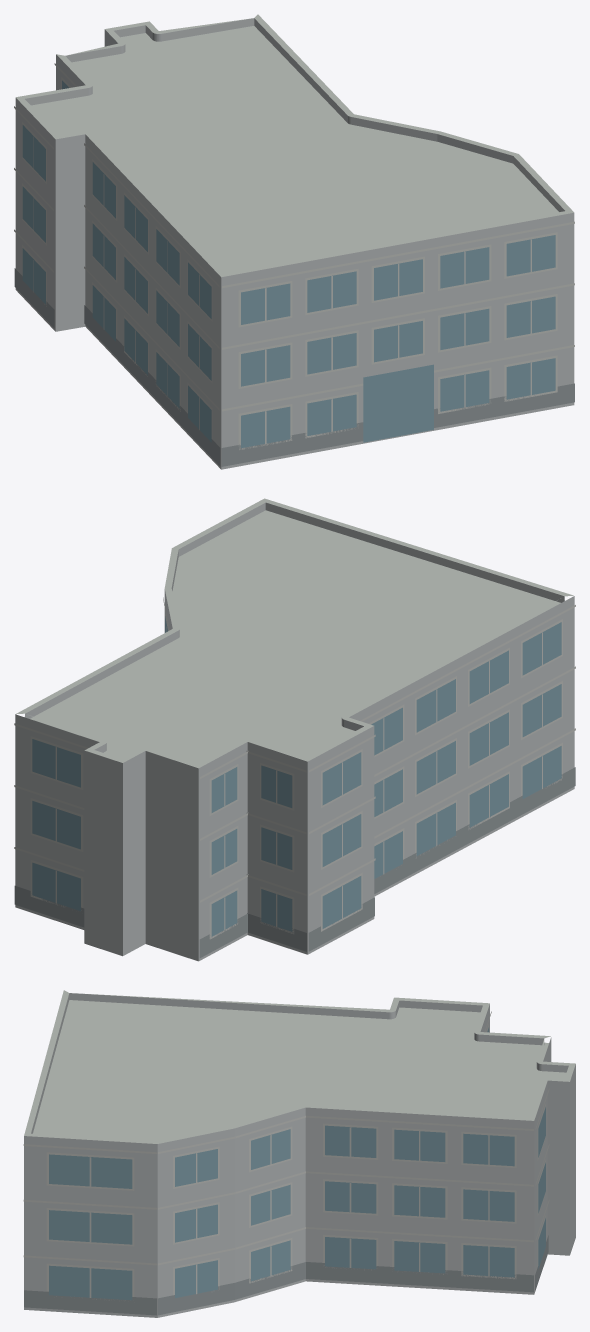
Rendered from public-6d1ccbcf-b9b5-471c-881a-cd4316fa4320.glb.
3 renders of one model, top to bottom at view 1: azimuth 30°, elevation 25°; view 2: azimuth 150°, elevation 25°; view 3: azimuth 270°, elevation 25°, orthographic. The views are drawn at different scales.
Visible parts, largest first — view 1: public-6d1ccbcf-b9b5-471c-881a-cd4316fa4320; view 2: public-6d1ccbcf-b9b5-471c-881a-cd4316fa4320; view 3: public-6d1ccbcf-b9b5-471c-881a-cd4316fa4320.
Part boxes in pixels (x1,y1,x2,y2): public-6d1ccbcf-b9b5-471c-881a-cd4316fa4320: (14,14,574,469); public-6d1ccbcf-b9b5-471c-881a-cd4316fa4320: (14,498,575,961); public-6d1ccbcf-b9b5-471c-881a-cd4316fa4320: (23,990,575,1317).
Bounding box in the file's own units: 17.53 × 9.15 × 26.8.
